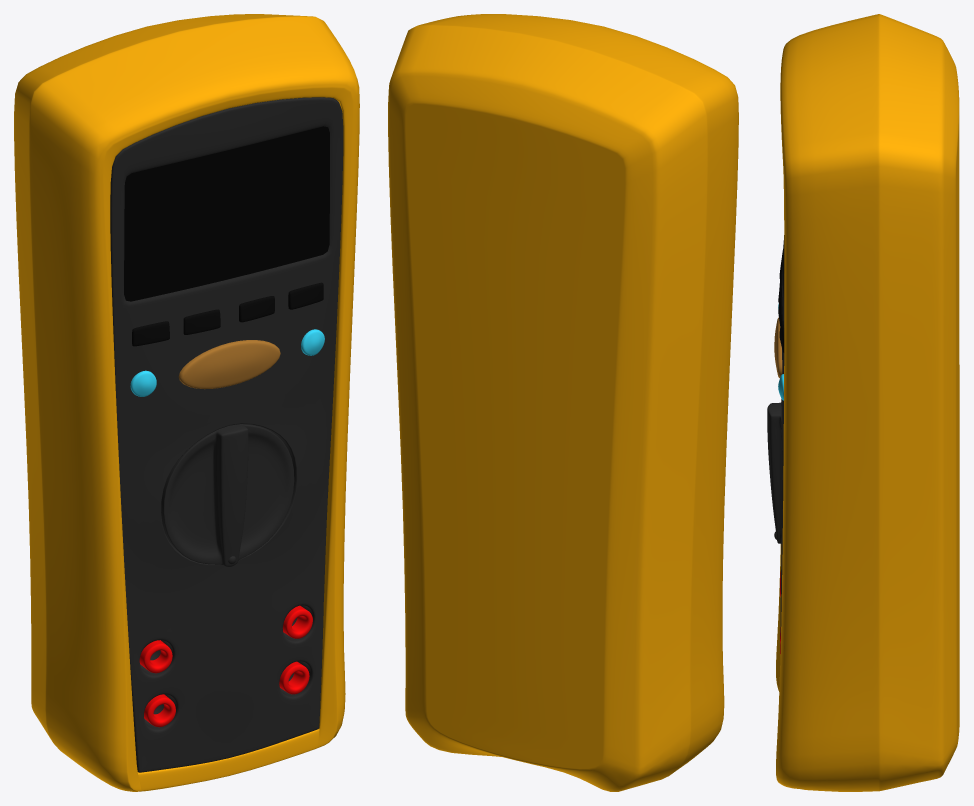
The model's file is 高阻計.FBX.
The picture shows the model from 3 angles, left to right: view 1: azimuth 30°, elevation 25°; view 2: azimuth 150°, elevation 25°; view 3: azimuth 270°, elevation 25°; orthographic projection. The views are drawn at different scales.
Parts seen in each view (by area): view 1: 三用電表, 三用電表_旋轉鈕; view 2: 三用電表; view 3: 三用電表, 三用電表_旋轉鈕.
Part boxes in pixels (x1,y1,x2,y2): 三用電表: (14, 14, 359, 791); 三用電表_旋轉鈕: (161, 424, 294, 566); 三用電表: (388, 14, 738, 791); 三用電表: (774, 14, 959, 791); 三用電表_旋轉鈕: (767, 402, 782, 545).
Size of the model in its own units: 12.18 by 27.76 by 7.
